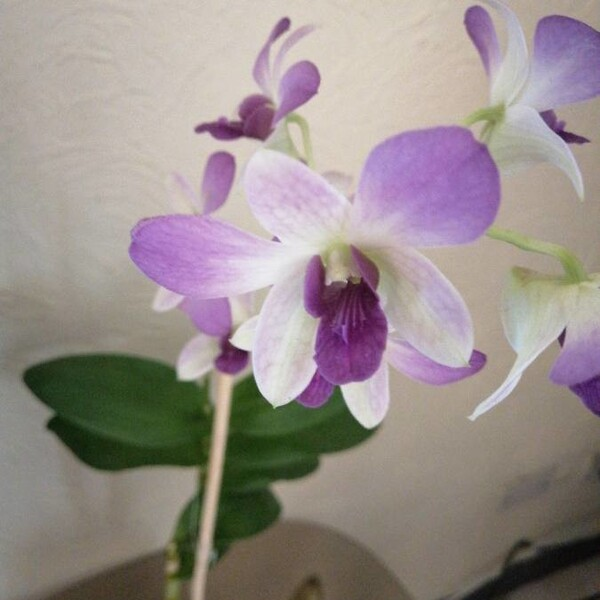obstacle: (93, 123, 472, 580)
